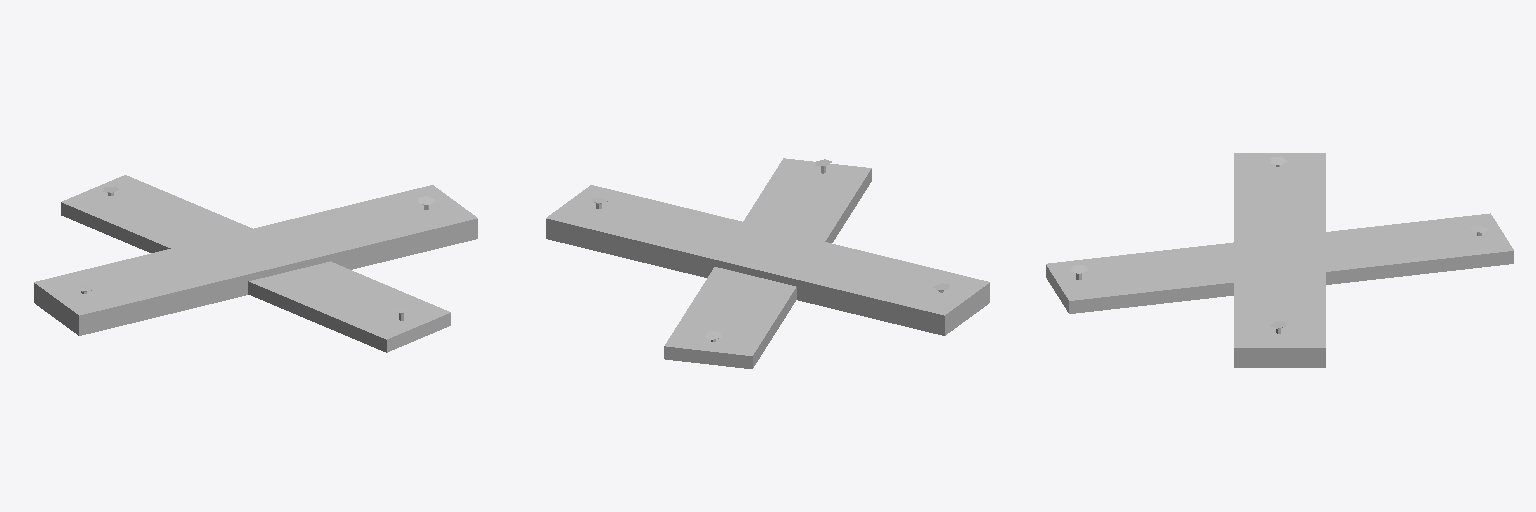
File: Planks_V1.obj
The picture shows the model from 3 angles: view 1: azimuth 30°, elevation 25°; view 2: azimuth 150°, elevation 25°; view 3: azimuth 270°, elevation 25°; orthographic projection.
Visible parts, largest first — view 1: Planks Plank_1; view 2: Planks Plank_1; view 3: Planks Plank_1.
Part boxes in pixels (bbox=[...]): Planks Plank_1: bbox=[34, 175, 477, 352]; Planks Plank_1: bbox=[546, 158, 989, 368]; Planks Plank_1: bbox=[1046, 153, 1513, 367].
Size of the model in its own units: 137 by 9.7 by 139.